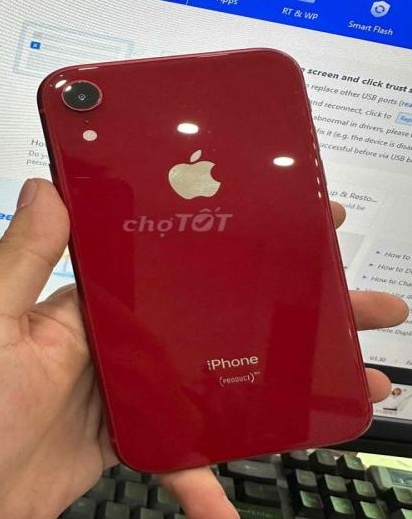scratch: (138, 97, 229, 169), (74, 78, 88, 88), (91, 93, 103, 104)
